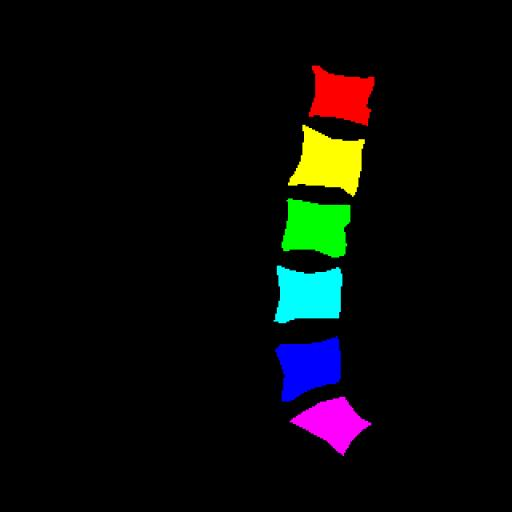L1: (309, 66, 374, 126)
L2: (288, 125, 365, 196)
L3: (282, 198, 350, 258)
L4: (274, 266, 341, 323)
L5: (276, 337, 341, 400)
S1: (290, 397, 371, 454)
